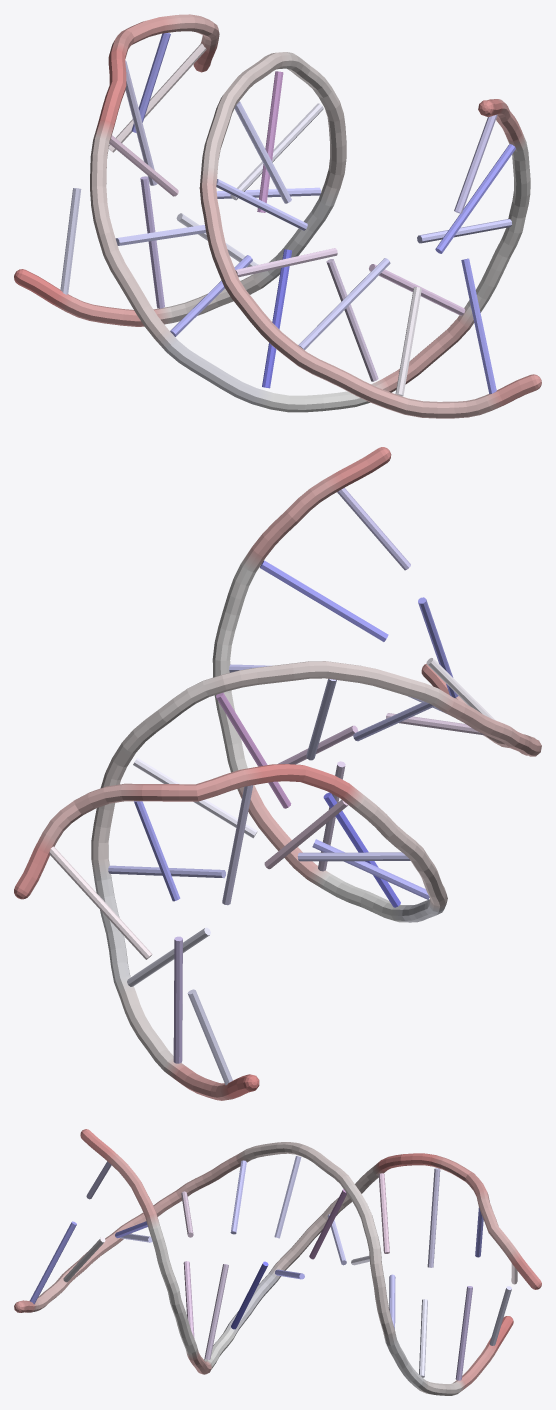
Rendered from 1bna__cartoon__b-factor.glb.
3 renders of one model, top to bottom at view 1: azimuth 30°, elevation 25°; view 2: azimuth 150°, elevation 25°; view 3: azimuth 270°, elevation 25°, orthographic. The views are drawn at different scales.
Parts seen in each view (by area): view 1: Renderer Node; view 2: Renderer Node; view 3: Renderer Node.
Boxes of the visible parts, x1,y1,x2,y2 form: Renderer Node: [14, 14, 541, 418]; Renderer Node: [14, 447, 541, 1100]; Renderer Node: [14, 1129, 541, 1395].
Bounding box in the file's own units: 21.36 × 25.92 × 43.47.
